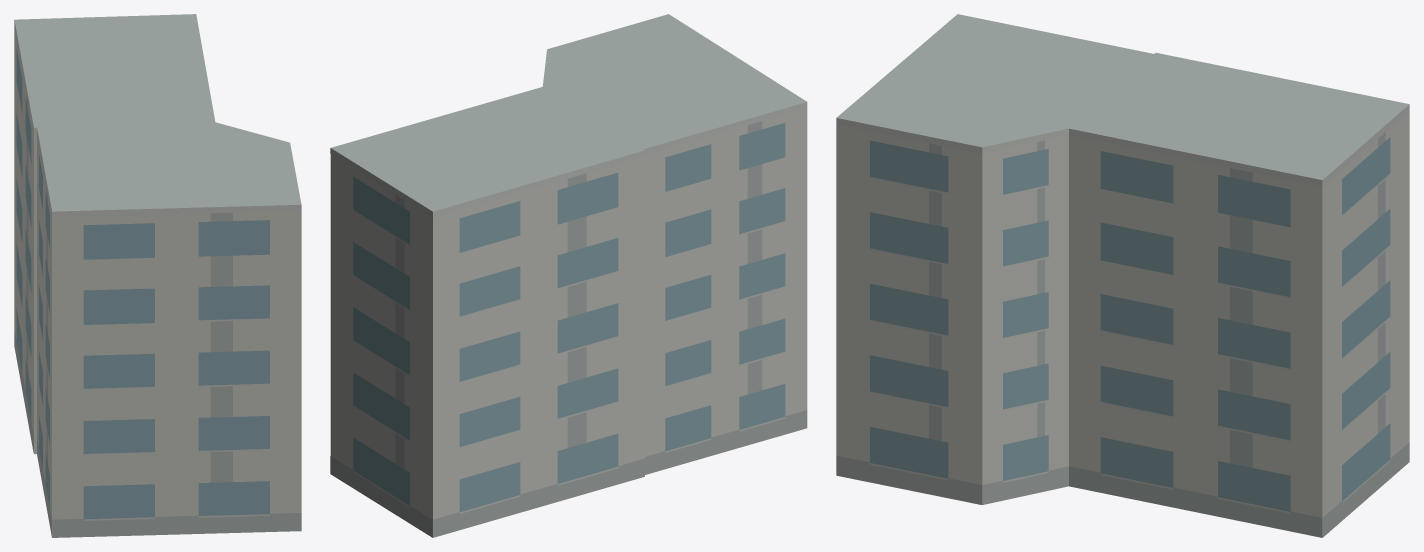
The model's file is survey-upis-32810869.glb.
The picture shows the model from 3 angles, left to right: view 1: azimuth 30°, elevation 25°; view 2: azimuth 150°, elevation 25°; view 3: azimuth 270°, elevation 25°; orthographic projection. The views are drawn at different scales.
Visible parts, largest first — view 1: survey-upis-32810869.tmp; view 2: survey-upis-32810869.tmp; view 3: survey-upis-32810869.tmp.
Part boxes in pixels (x1,y1,x2,y2): survey-upis-32810869.tmp: (14, 14, 301, 537); survey-upis-32810869.tmp: (330, 14, 807, 537); survey-upis-32810869.tmp: (836, 14, 1409, 537).
Size of the model in its own units: 12.96 by 13 by 18.89.
